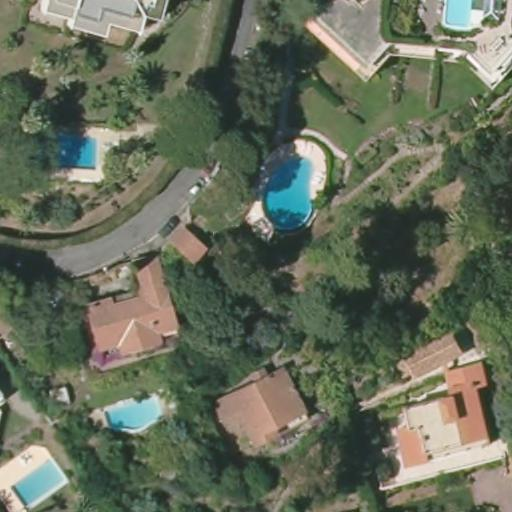pool: (263, 154, 315, 232), (10, 460, 72, 503), (42, 130, 104, 170), (102, 391, 163, 431), (436, 0, 481, 35)
